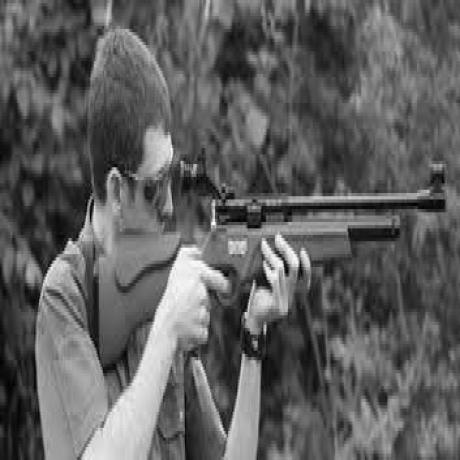Guns: (92, 150, 449, 366)
